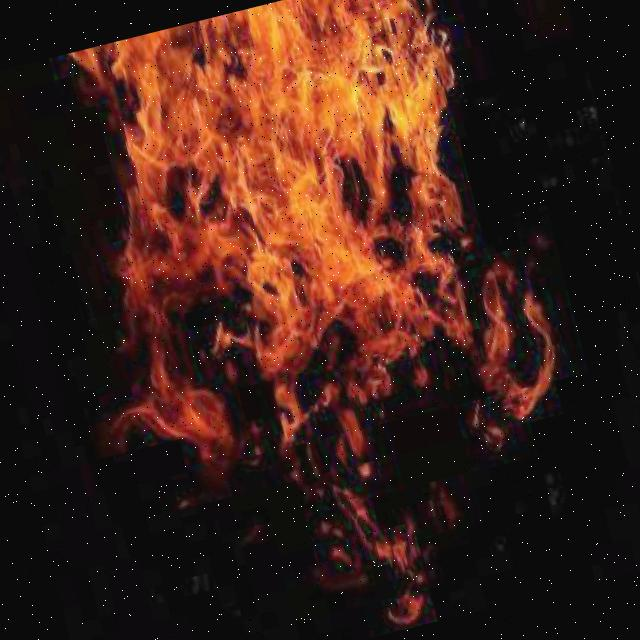fire: (32, 0, 586, 522)
